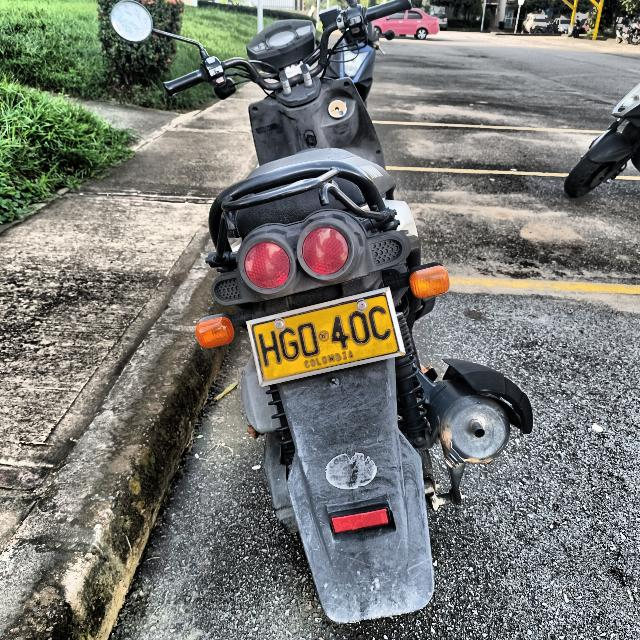plate: (252, 294, 398, 381)
